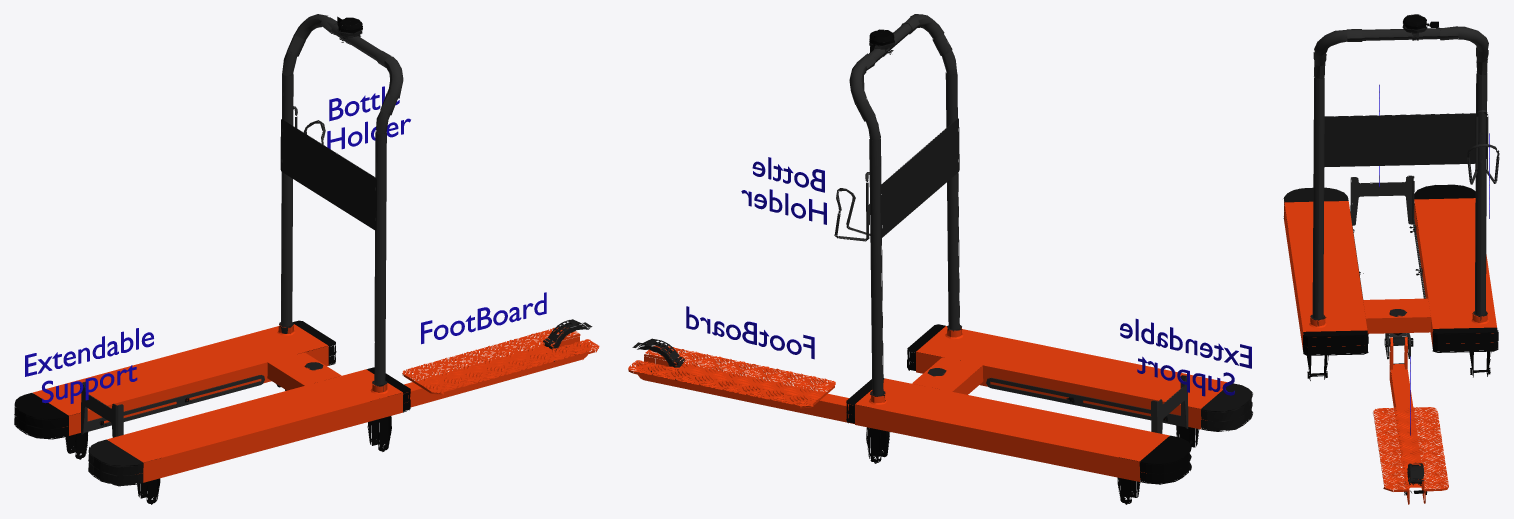
File: SKUTRO ORIGINS with text.glb
3 views of the same model, side by side, from view 1: azimuth 30°, elevation 25°; view 2: azimuth 150°, elevation 25°; view 3: azimuth 270°, elevation 25° (orthographic). The views are drawn at different scales.
Parts seen in each view (by area): view 1: Skutro_2, Extendable Support, Bottle Holder, Footboard; view 2: Skutro_2, Extendable Support, Bottle Holder, Footboard; view 3: Skutro_2.
Boxes of the visible parts, x1=… form: Skutro_2: x1=14, y1=14, x2=599, y2=504; Extendable Support: x1=25, y1=328, x2=153, y2=403; Bottle Holder: x1=327, y1=86, x2=410, y2=149; Footboard: x1=421, y1=292, x2=546, y2=344; Skutro_2: x1=628, y1=14, x2=1252, y2=504; Extendable Support: x1=1120, y1=318, x2=1251, y2=396; Bottle Holder: x1=741, y1=157, x2=826, y2=224; Footboard: x1=686, y1=306, x2=814, y2=359; Skutro_2: x1=1283, y1=14, x2=1499, y2=504.
Size of the model in its own units: 1.84 by 1.18 by 0.6147.
